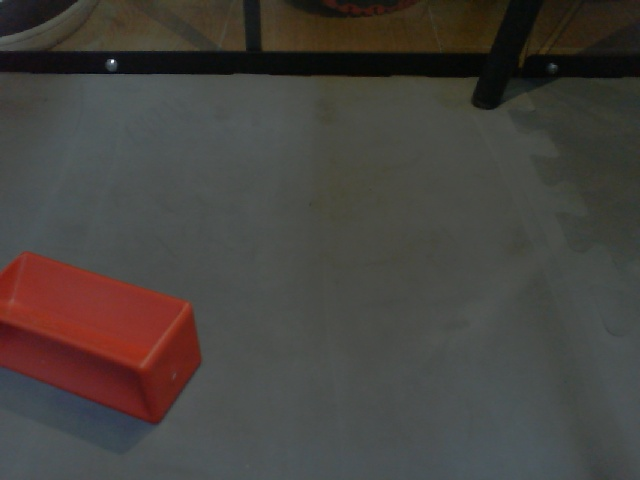RedSample: (1, 251, 204, 430)
